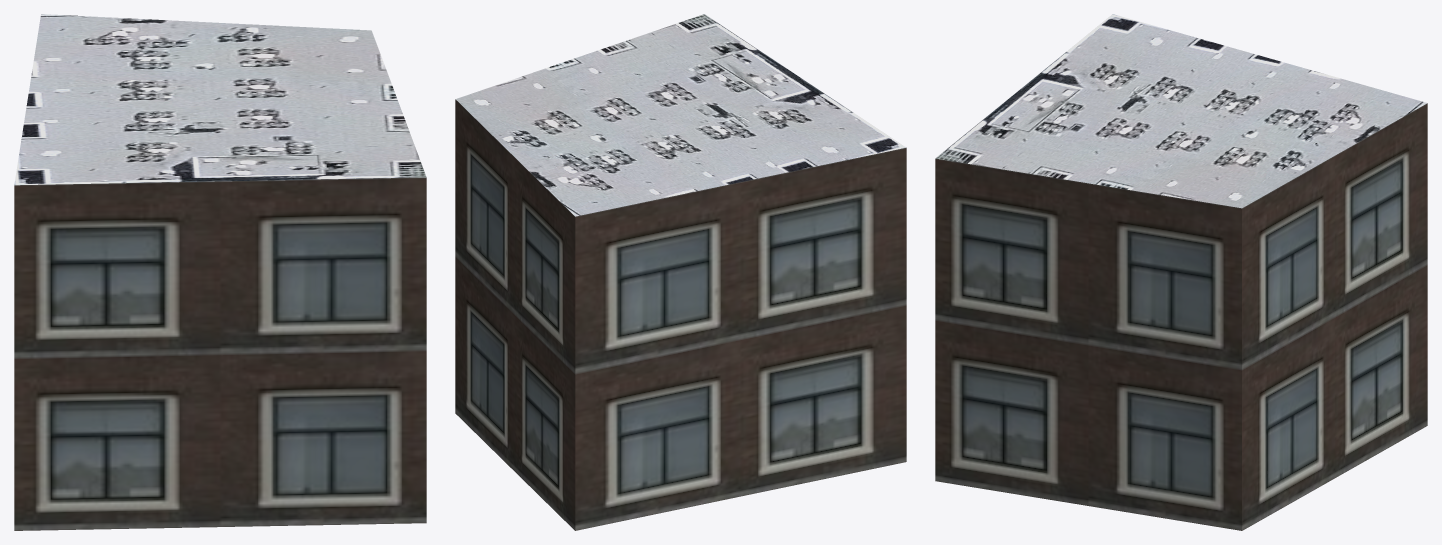
File: ResTex__4083.fbx
3 views of the same model, side by side, from view 1: azimuth 30°, elevation 25°; view 2: azimuth 150°, elevation 25°; view 3: azimuth 270°, elevation 25° (orthographic). The views are drawn at different scales.
Visible parts, largest first — view 1: CityEngineMaterial_16_m, CityEngineMaterial_15_m; view 2: CityEngineMaterial_16_m, CityEngineMaterial_15_m; view 3: CityEngineMaterial_16_m, CityEngineMaterial_15_m.
Part boxes in pixels (<box>): CityEngineMaterial_16_m: <box>14,177,426,530</box>; CityEngineMaterial_15_m: <box>14,14,426,185</box>; CityEngineMaterial_16_m: <box>455,99,906,530</box>; CityEngineMaterial_15_m: <box>455,14,905,216</box>; CityEngineMaterial_16_m: <box>935,103,1427,530</box>; CityEngineMaterial_15_m: <box>935,14,1427,208</box>.
Bounding box in the file's own units: 7.75 × 6 × 8.3.
2 materials, 2 textured.
